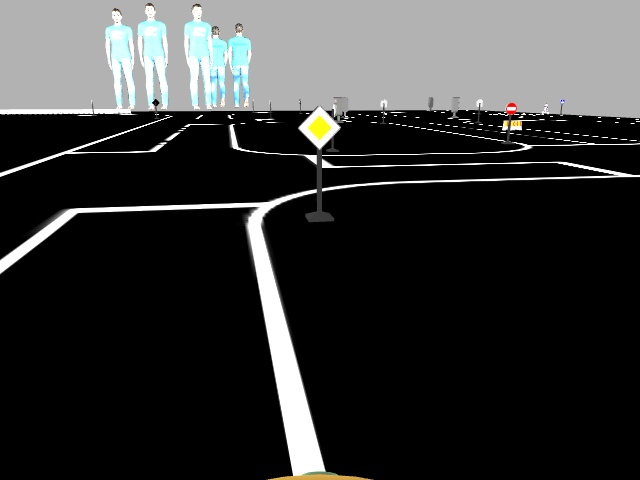ClosedRoadStand: (500, 119, 523, 130)
NoEntry: (503, 101, 517, 115)
Priority: (295, 105, 342, 150)
